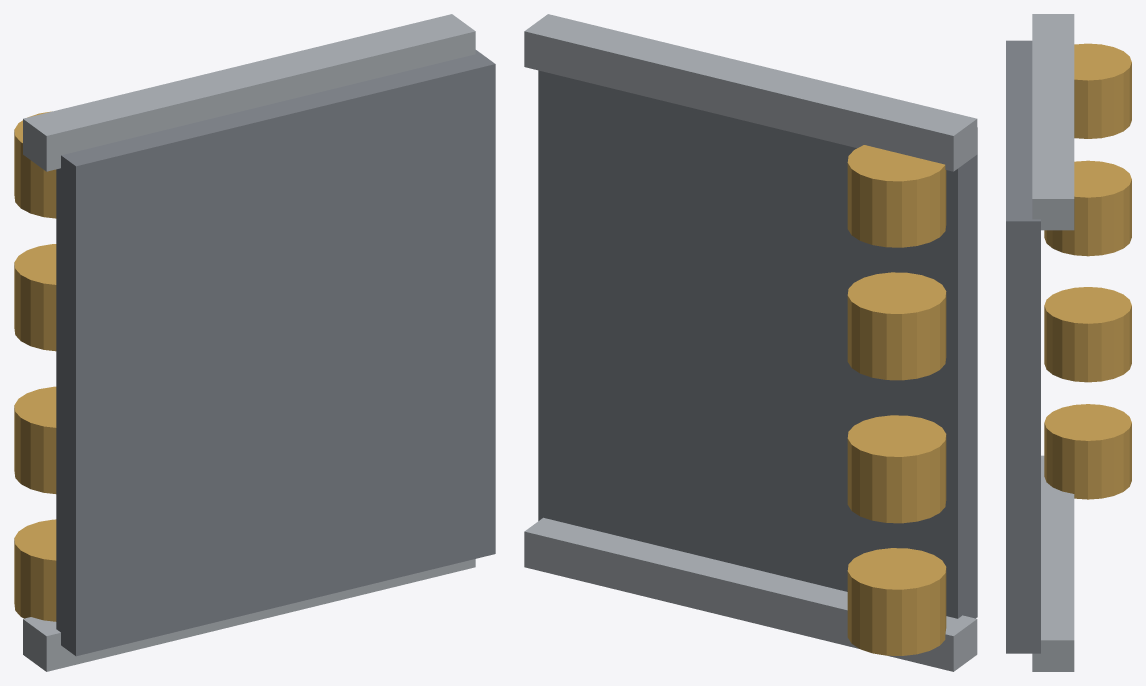
3 views of the same model, side by side, from view 1: azimuth 30°, elevation 25°; view 2: azimuth 150°, elevation 25°; view 3: azimuth 270°, elevation 25° (orthographic). The views are drawn at different scales.
Visible parts, largest first — view 1: intake_crossbar, intake_side_arm_1, intake_side_arm, intake_roller_1, intake_roller_2, intake_roller, intake_roller_3; view 2: intake_crossbar, intake_side_arm_1, intake_side_arm, intake_roller_2, intake_roller_1, intake_roller, intake_roller_3; view 3: intake_crossbar, intake_side_arm_1, intake_roller_1, intake_roller, intake_side_arm, intake_roller_2, intake_roller_3.
Part boxes in pixels (x1=…): intake_crossbar: x1=56, y1=50, x2=495, y2=656; intake_side_arm_1: x1=23, y1=14, x2=475, y2=171; intake_side_arm: x1=23, y1=559, x2=475, y2=671; intake_roller_1: x1=14, y1=386, x2=56, y2=493; intake_roller_2: x1=14, y1=244, x2=56, y2=351; intake_roller: x1=14, y1=519, x2=56, y2=621; intake_roller_3: x1=14, y1=111, x2=56, y2=218; intake_crossbar: x1=538, y1=70, x2=977, y2=618; intake_side_arm_1: x1=524, y1=14, x2=977, y2=171; intake_side_arm: x1=524, y1=517, x2=977, y2=671; intake_roller_2: x1=847, y1=272, x2=946, y2=380; intake_roller_1: x1=847, y1=415, x2=946, y2=523; intake_roller: x1=847, y1=548, x2=946, y2=655; intake_roller_3: x1=847, y1=145, x2=946, y2=247; intake_crossbar: x1=1006, y1=40, x2=1040, y2=653; intake_side_arm_1: x1=1032, y1=14, x2=1074, y2=230; intake_roller_1: x1=1044, y1=287, x2=1131, y2=382; intake_roller: x1=1044, y1=404, x2=1131, y2=499; intake_side_arm: x1=1032, y1=455, x2=1074, y2=671; intake_roller_2: x1=1044, y1=160, x2=1131, y2=256; intake_roller_3: x1=1074, y1=43, x2=1131, y2=138.
Size of the model in its own units: 0.445 by 0.525 by 0.1265.
